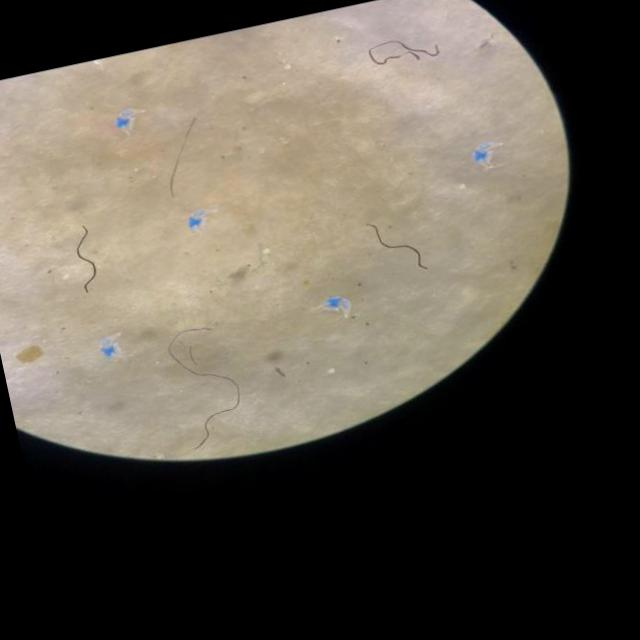fiber: (168, 328, 241, 449), (370, 224, 427, 270), (169, 119, 197, 196), (370, 39, 440, 66), (77, 227, 97, 292)
film: (320, 296, 351, 317), (115, 109, 140, 130), (189, 209, 214, 229), (101, 337, 118, 358)
fragment: (17, 345, 42, 364)
pellet: (329, 368, 335, 373), (264, 248, 270, 253), (460, 184, 465, 188)
